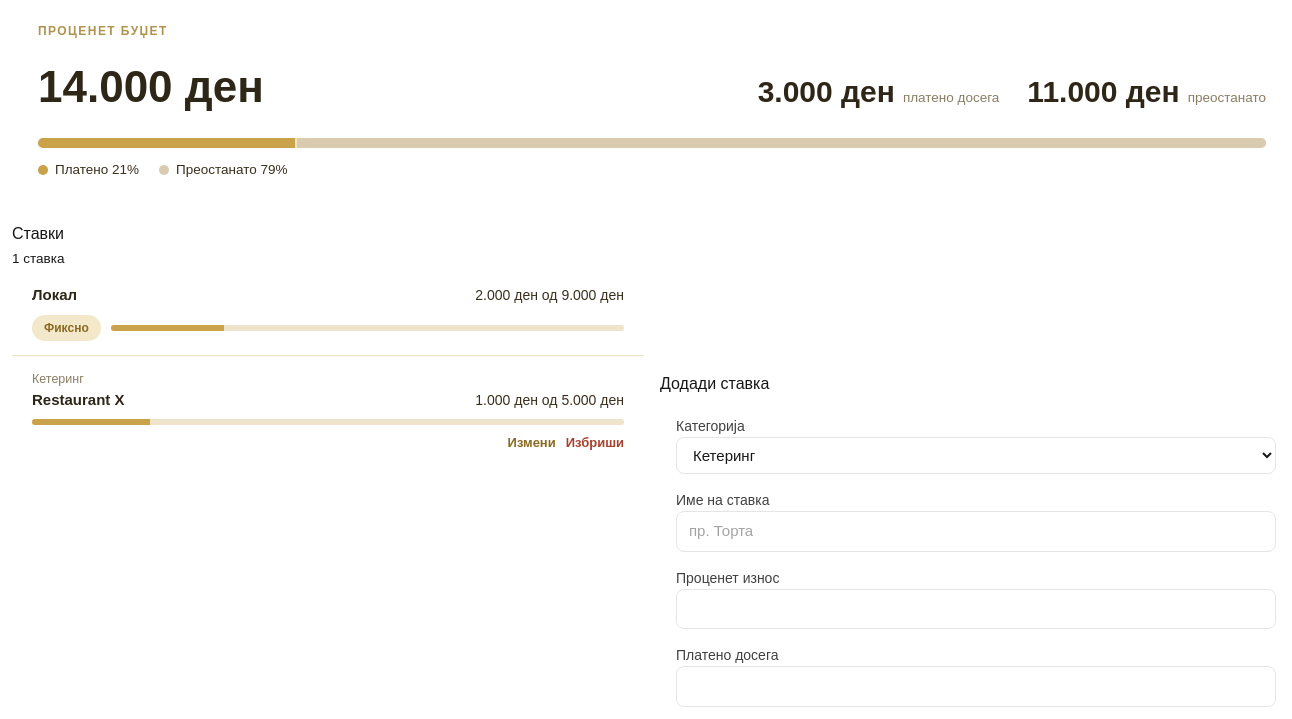
Scenario: BudgetClient › renders the venue line, items, and stat tiles, and adds a new item
Expected: the text "Локал" is shown, top-left (32, 284), bottom-right (77, 307)
Expected: the text "Restaurant X" is shown, top-left (32, 388), bottom-right (124, 411)
Type "Florist Y" into the field labelled "Име на ставка". click: {"x": 976, "y": 532}
box: top-left (676, 511), bottom-right (1276, 552)
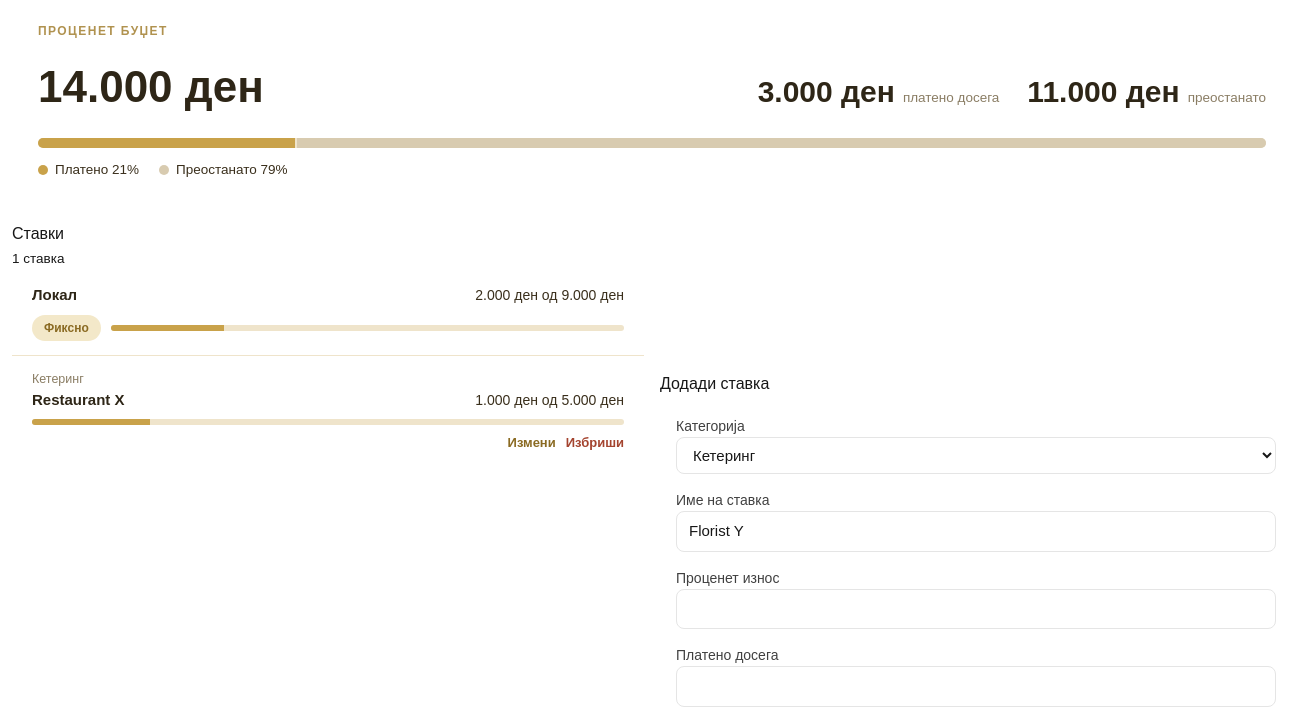
Type "800" into the number field labelled "Проценет износ". click: {"x": 976, "y": 609}
box: top-left (676, 589), bottom-right (1276, 629)
(page scrolled)
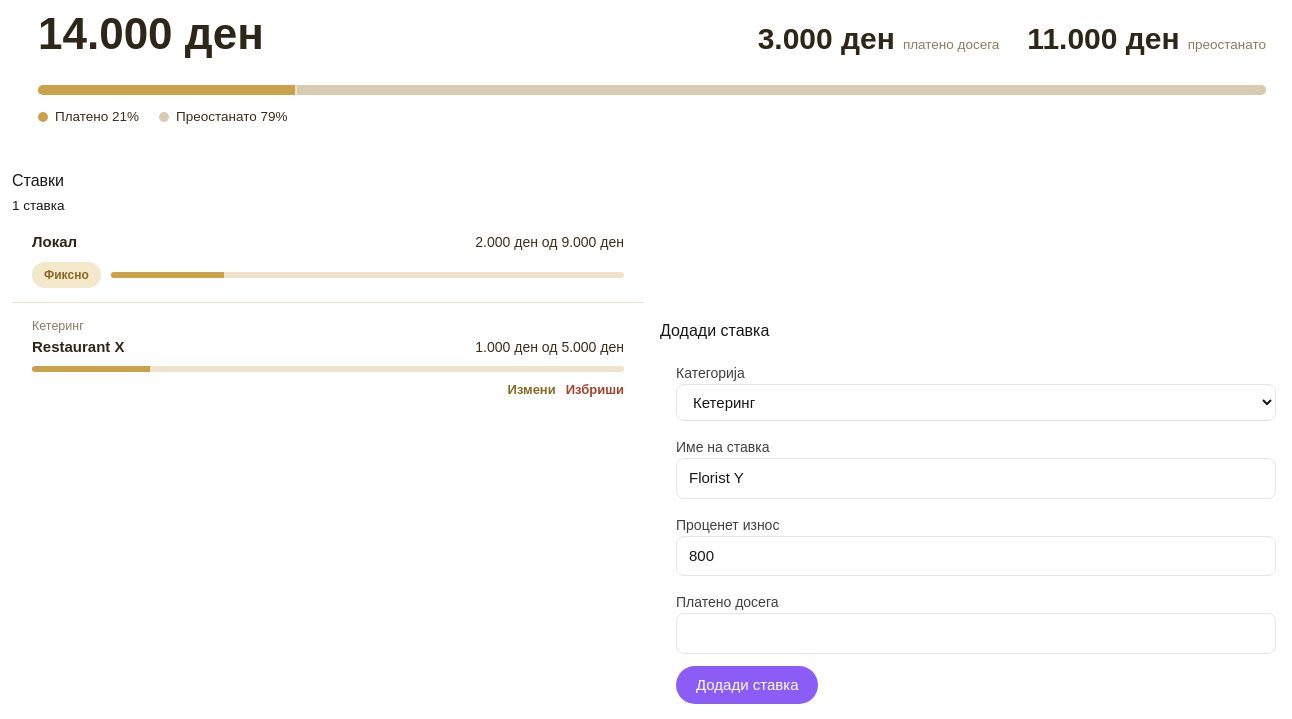
Click the button "Додади ставка". click: {"x": 747, "y": 685}
box: top-left (676, 666), bottom-right (818, 704)
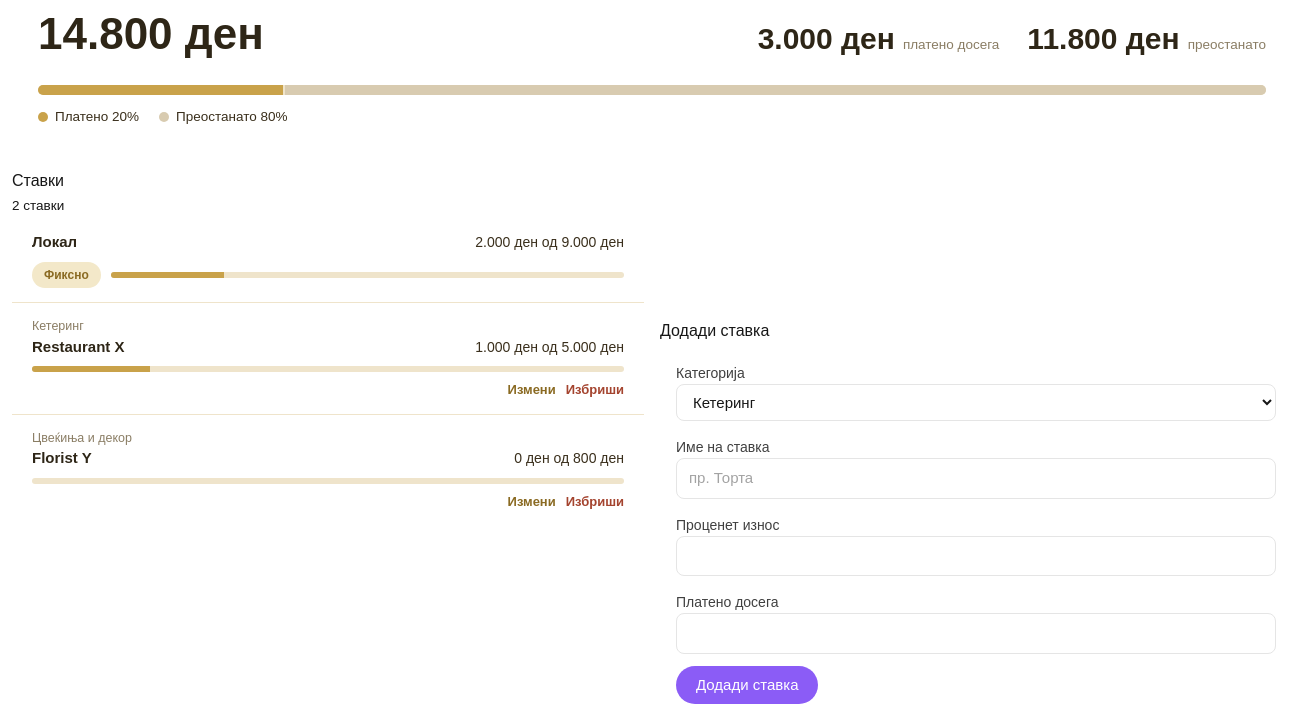
Result: the text "Florist Y" is shown at top-left (32, 447), bottom-right (92, 470)
